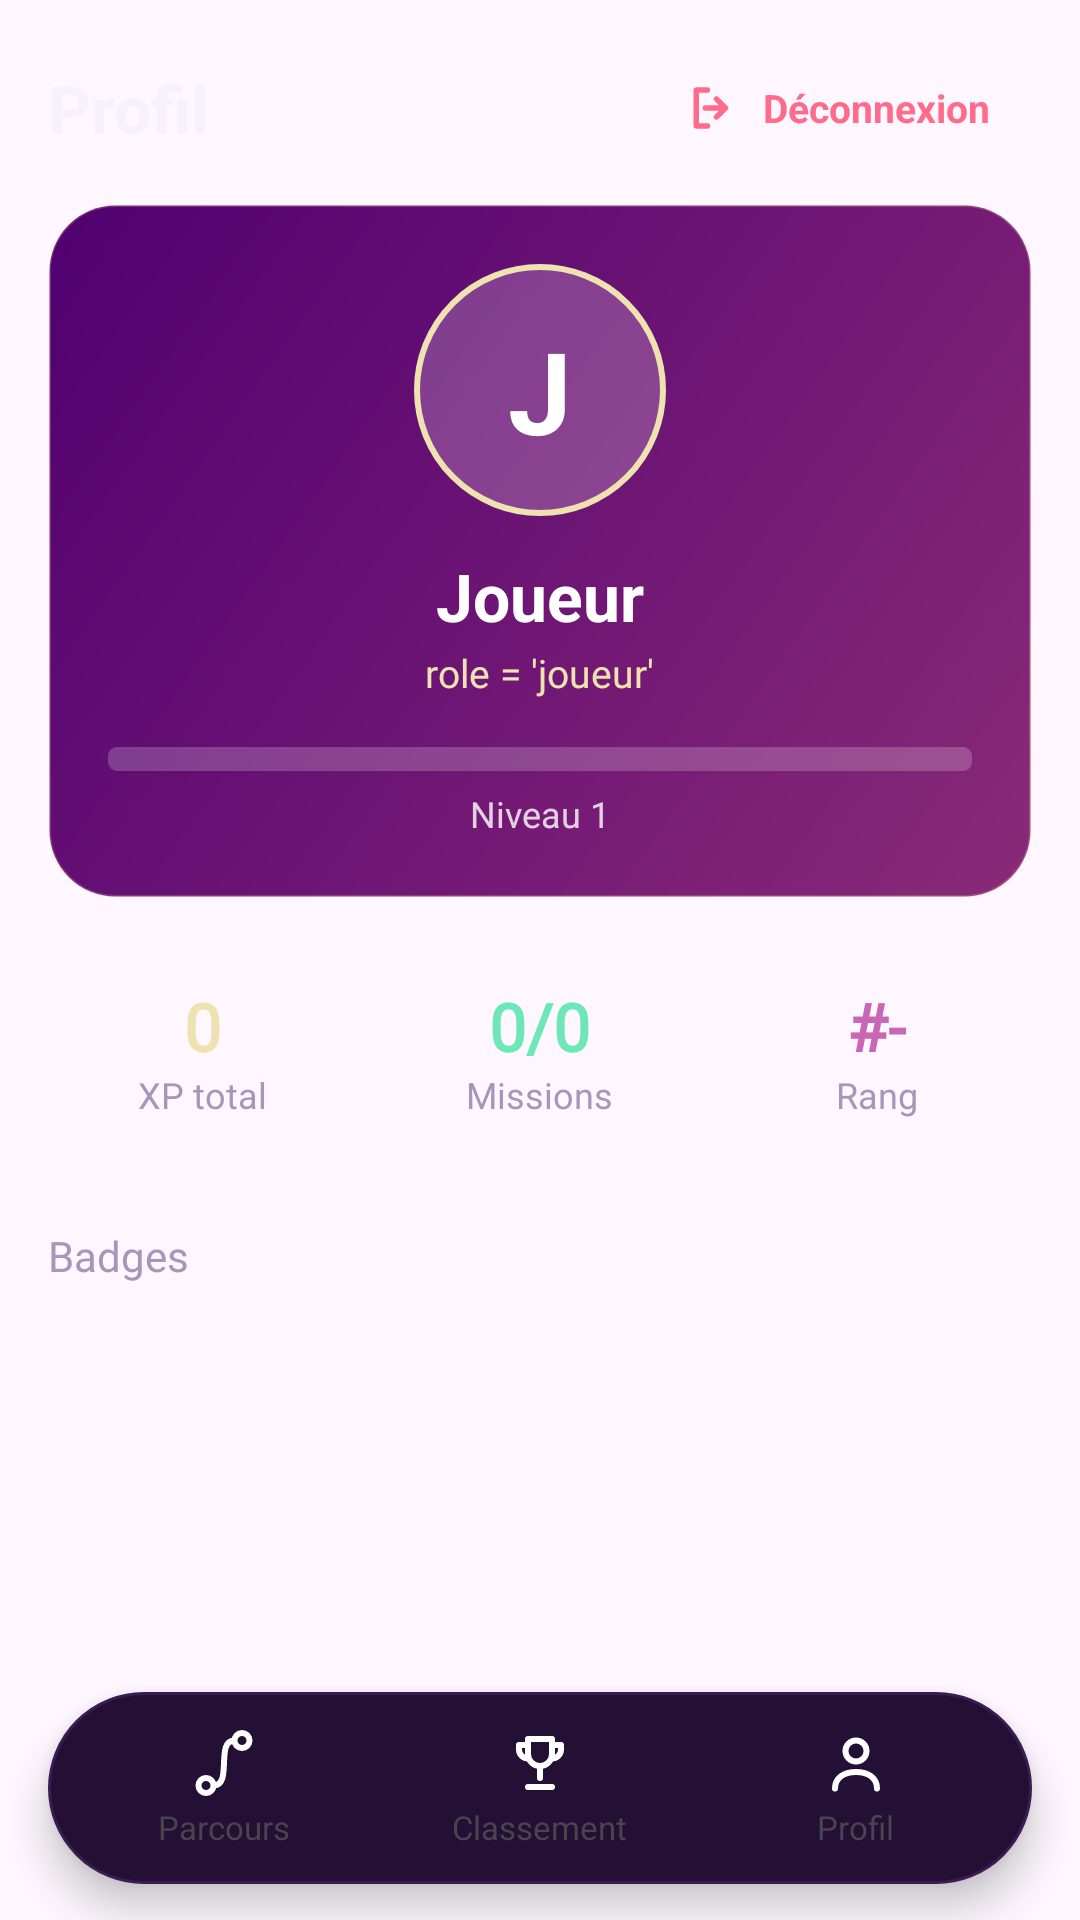

Icon bounding boxes for this 1080x1920 phone screenshot, format (x1, y1, x2, y2):
trophy: (516, 1736, 564, 1790)
